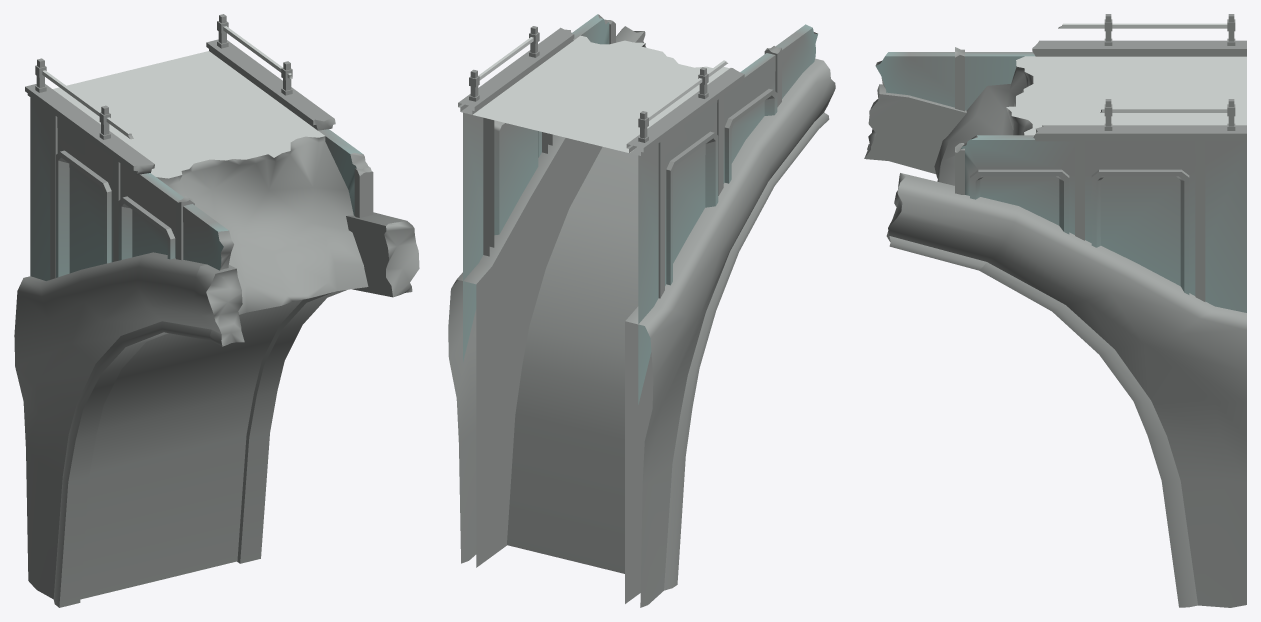
3 renders of one model, left to right at view 1: azimuth 30°, elevation 25°; view 2: azimuth 150°, elevation 25°; view 3: azimuth 270°, elevation 25°, orthographic. The views are drawn at different scales.
Visible parts, largest first — view 1: G:\FFXIV-MapTools\exports\e3f2\bg\ex2\02_est_e3\fld\e3f2\bgp (×6); view 2: G:\FFXIV-MapTools\exports\e3f2\bg\ex2\02_est_e3\fld\e3f2\bgp (×6); view 3: G:\FFXIV-MapTools\exports\e3f2\bg\ex2\02_est_e3\fld\e3f2\bgp (×6).
Boxes of the visible parts, left/top/right/bottom form: G:\FFXIV-MapTools\exports\e3f2\bg\ex2\02_est_e3\fld\e3f2\bgp (×6): left=14, top=14, right=419, bottom=607; G:\FFXIV-MapTools\exports\e3f2\bg\ex2\02_est_e3\fld\e3f2\bgp (×6): left=448, top=14, right=835, bottom=607; G:\FFXIV-MapTools\exports\e3f2\bg\ex2\02_est_e3\fld\e3f2\bgp (×6): left=864, top=14, right=1246, bottom=607.
Bounding box in the file's own units: 13.47 × 30.57 × 20.98.
